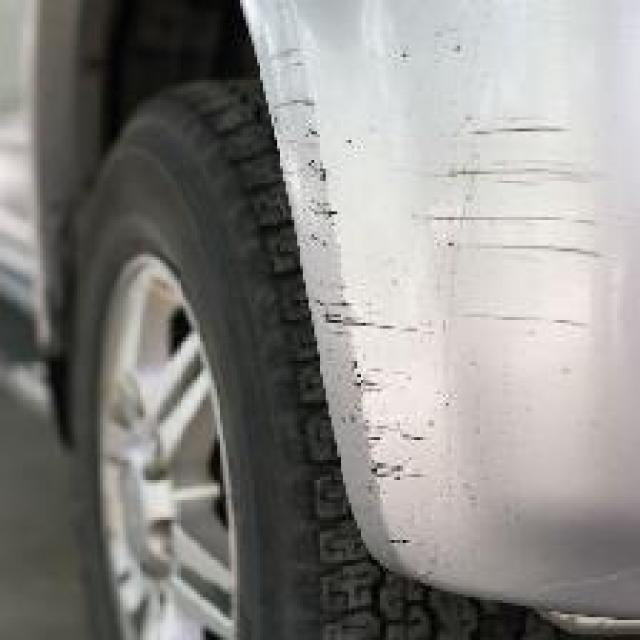damaged: (257, 26, 603, 563)
